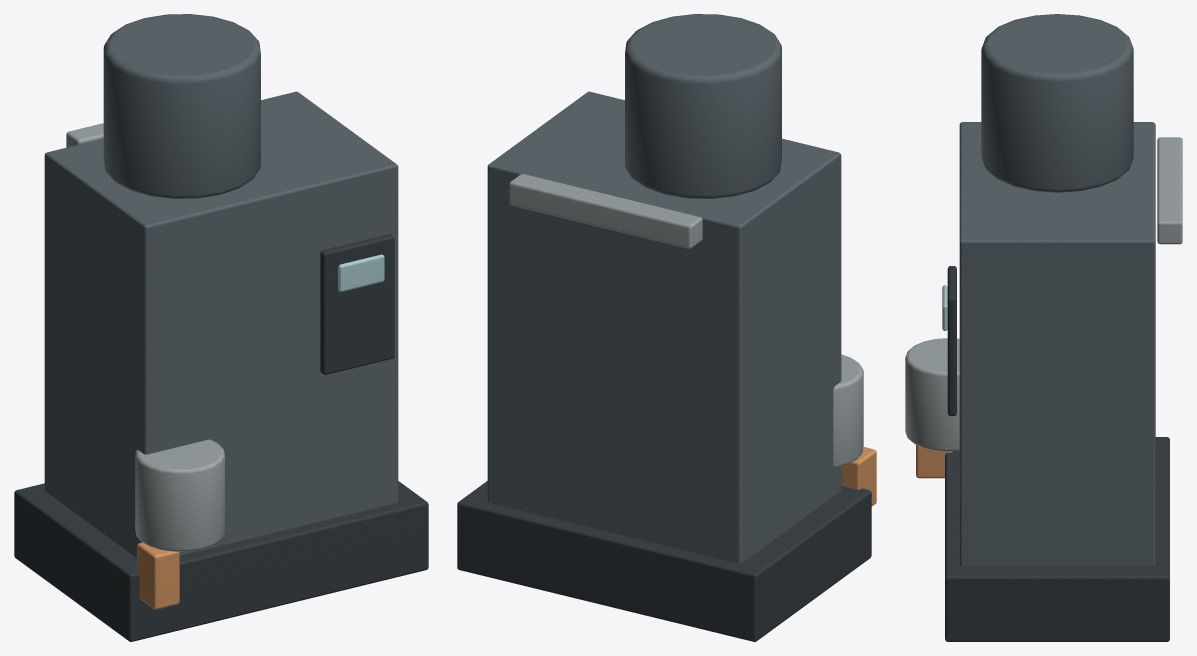
The model's file is PortableDeconUnit.fbx.
The picture shows the model from 3 angles, left to right: view 1: azimuth 30°, elevation 25°; view 2: azimuth 150°, elevation 25°; view 3: azimuth 270°, elevation 25°; orthographic projection. The views are drawn at different scales.
Visible parts, largest first — view 1: PortableDeconUnit_Mesh; view 2: PortableDeconUnit_Mesh; view 3: PortableDeconUnit_Mesh.
Boxes of the visible parts, x1,y1,x2,y2 form: PortableDeconUnit_Mesh: (14, 14, 428, 641); PortableDeconUnit_Mesh: (457, 14, 876, 641); PortableDeconUnit_Mesh: (905, 14, 1182, 641).
Size of the model in its own units: 92 by 155 by 76.5.
Materials: 5 (5 with a texture image).
